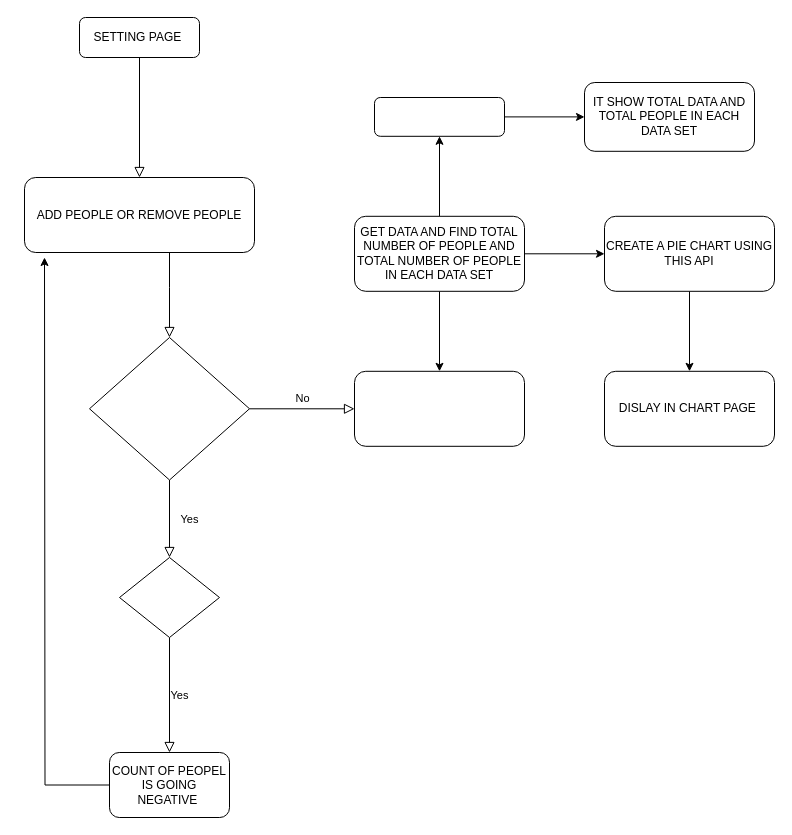
Some shapes in this 792 by 835 pixel diagram are drawn without their labels. Each missing label, with the centre of its shape:
"CHECK IF PEOPLE COUNT GOES TO NEGATIVE" goes at point (169, 408).
"DISPLAY MESSAGE" goes at point (169, 597).
"PEOPLE PAGE" goes at point (439, 116).
"SAVE TO MONGODB DATABASE" goes at point (439, 408).
